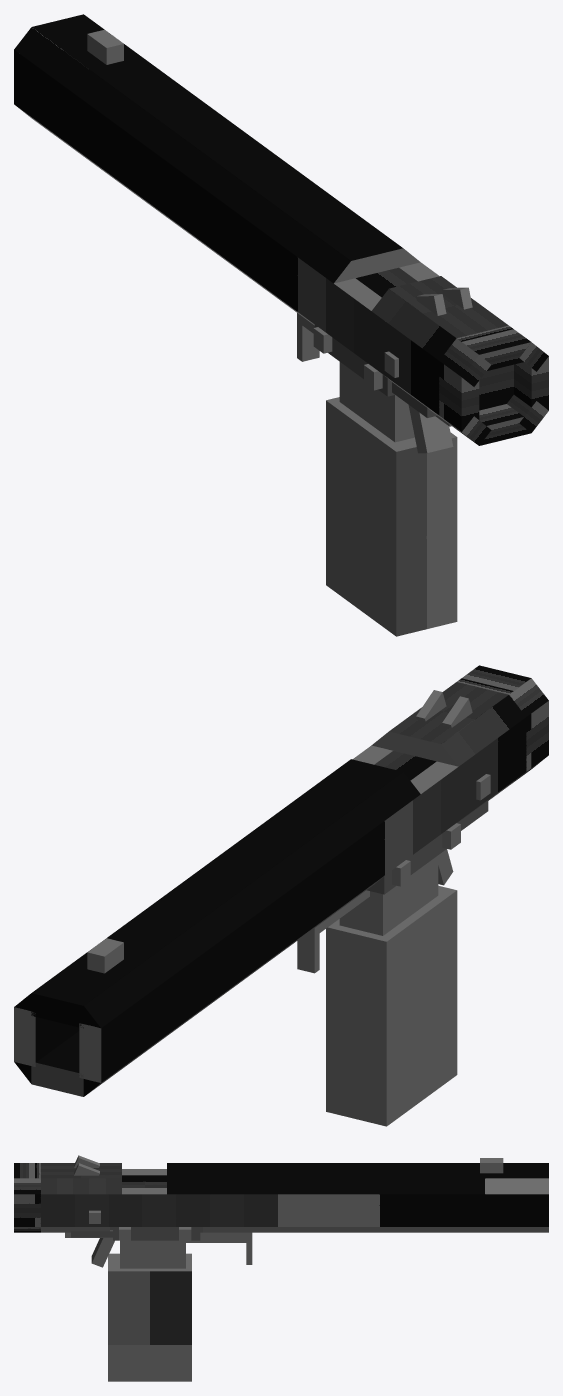
Rendered from mteg_welrod.glb.
3 renders of one model, top to bottom at view 1: azimuth 30°, elevation 25°; view 2: azimuth 150°, elevation 25°; view 3: azimuth 270°, elevation 25°, orthographic. The views are drawn at different scales.
Visible parts, largest first — view 1: Gun; view 2: Gun; view 3: Gun.
Part boxes in pixels (<box>): Gun: <box>14,14,548,636</box>; Gun: <box>14,665,548,1126</box>; Gun: <box>14,1155,548,1381</box>.
Size of the model in its own units: 0.0719 by 0.2435 by 0.556.
1 material, 1 textured.
